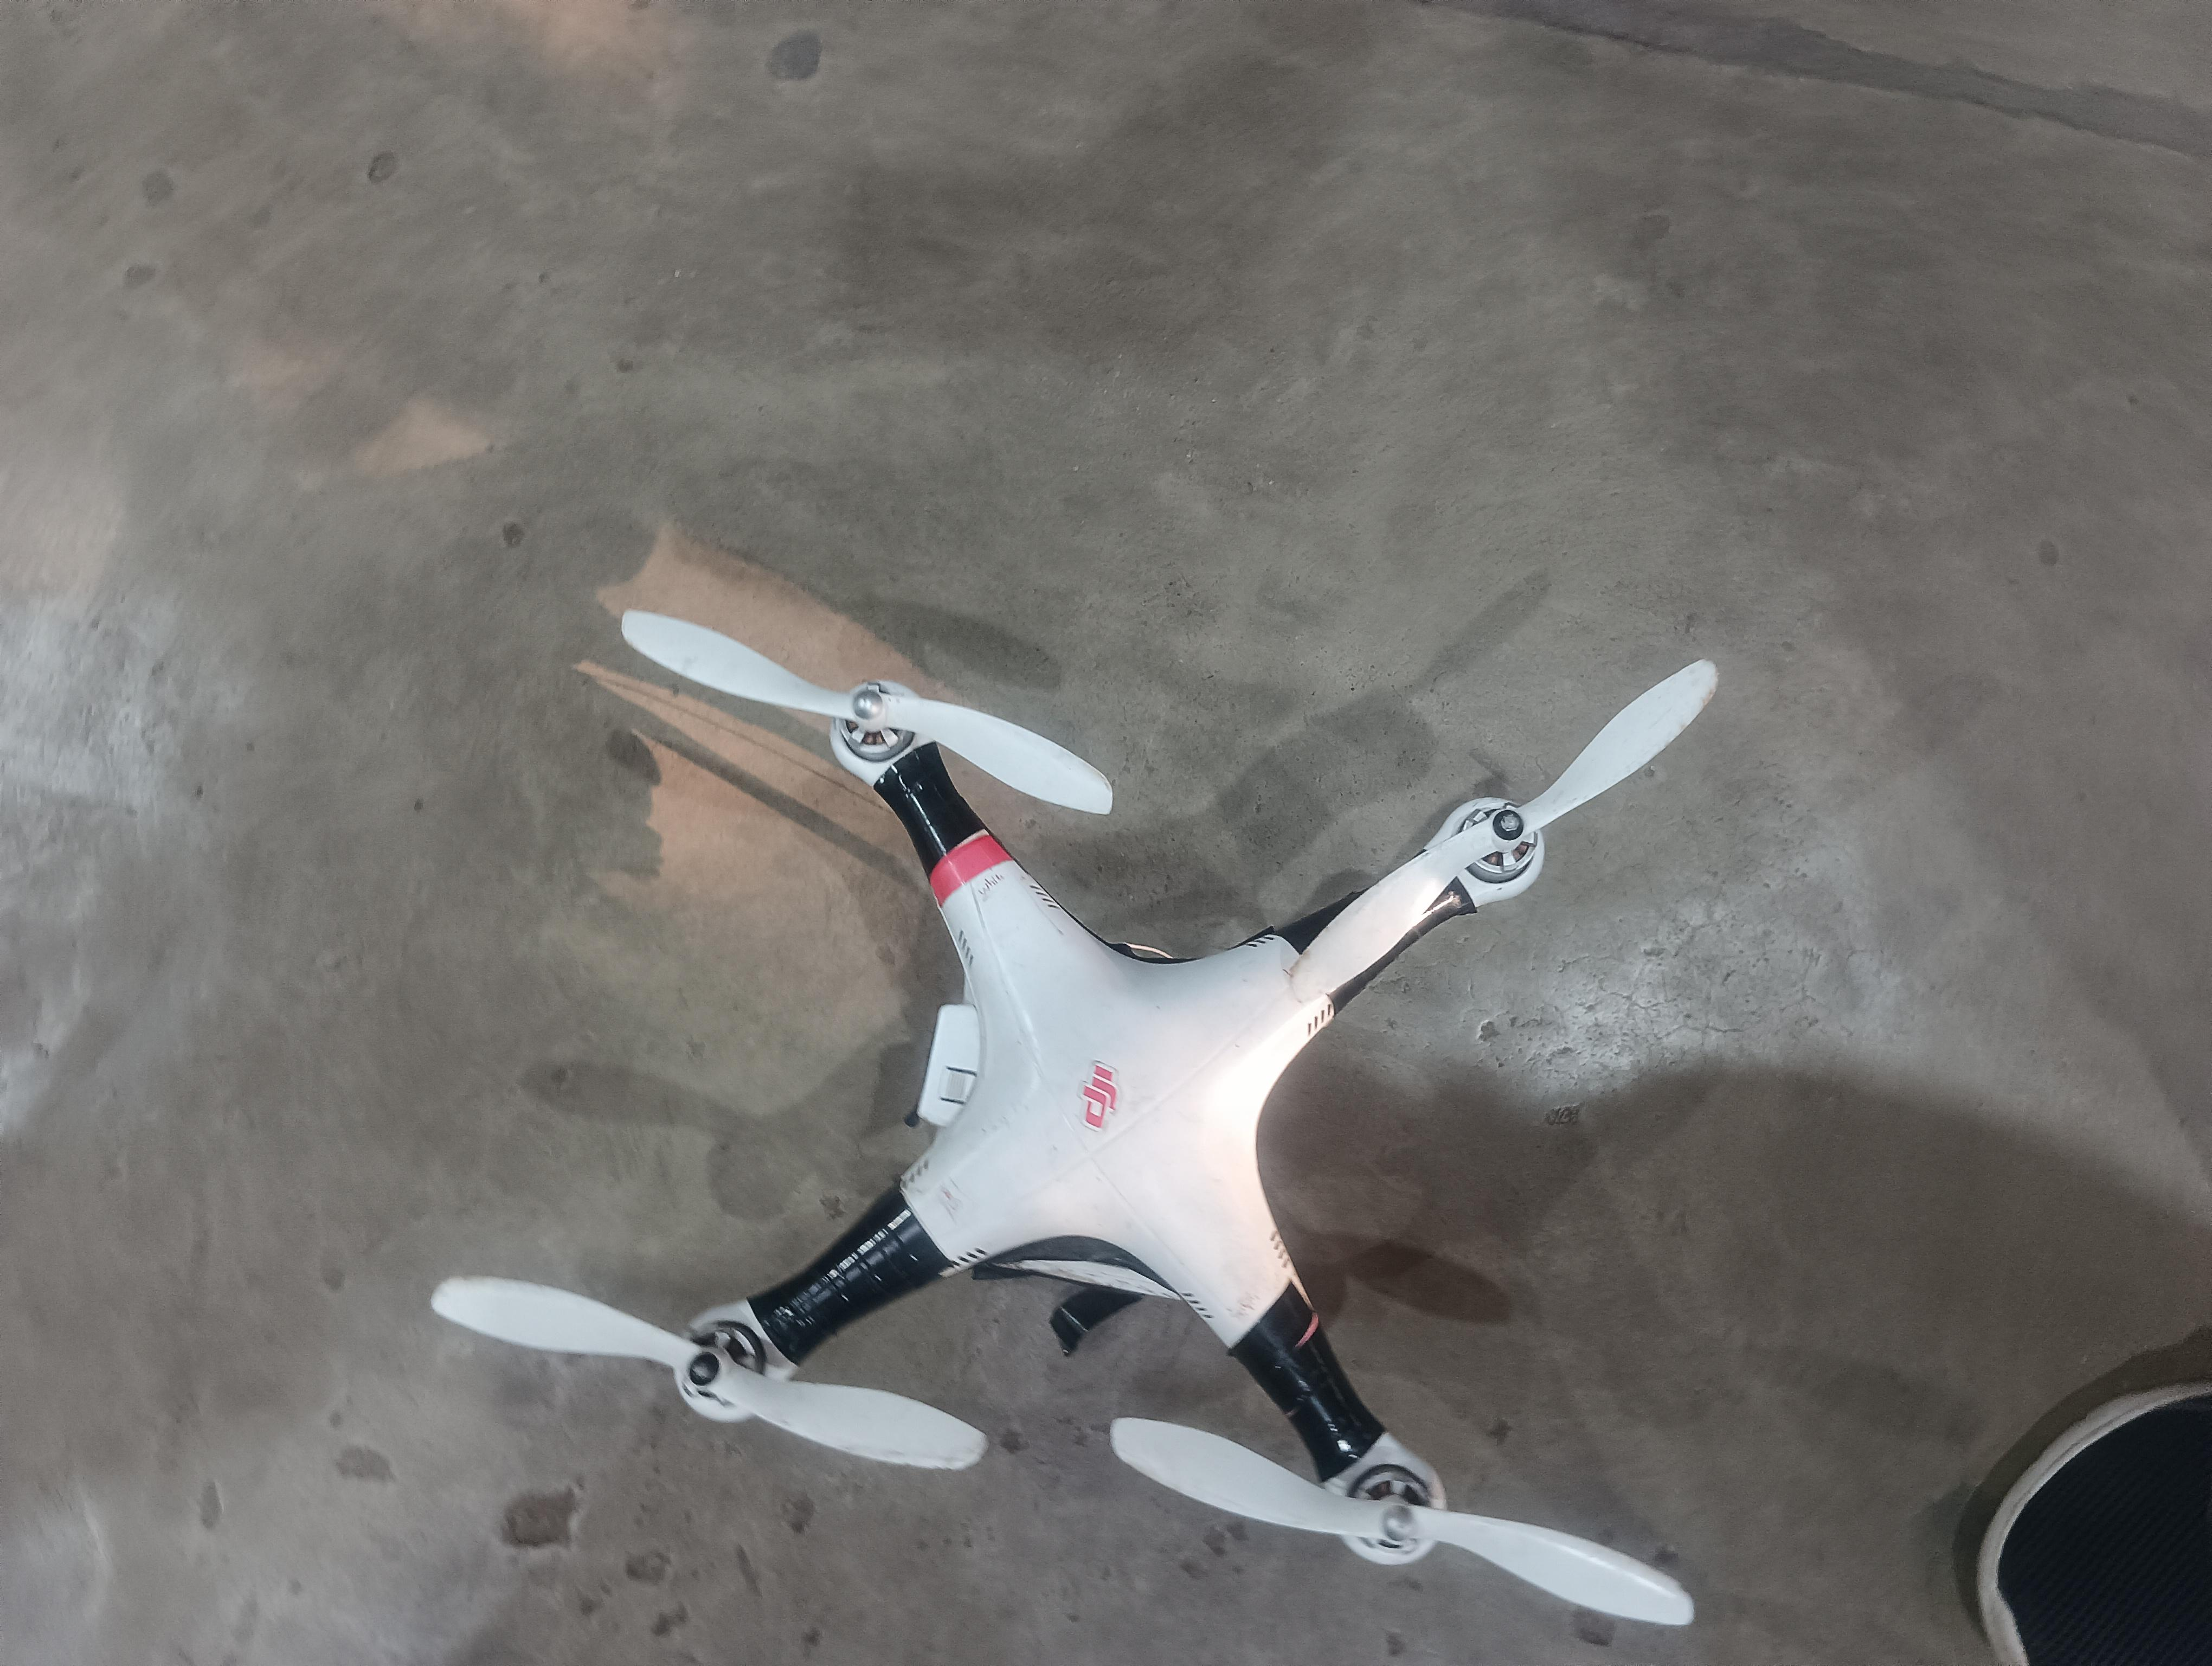drone: (381, 472, 1876, 1666)
